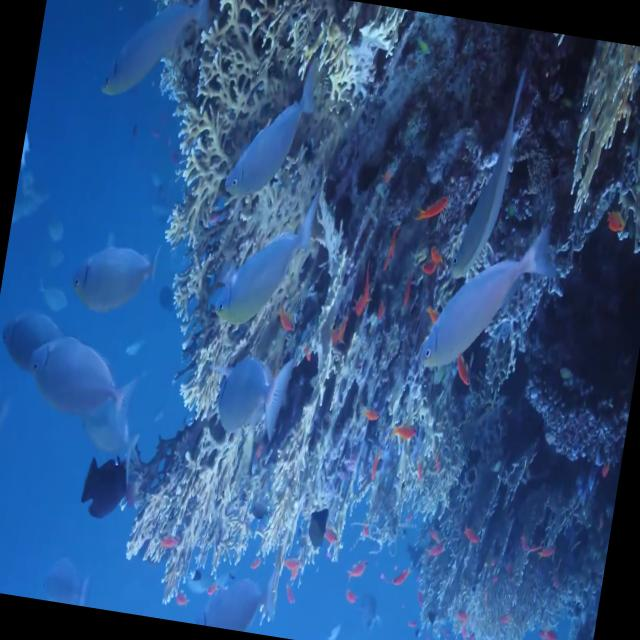fish: (400, 199, 558, 395), (430, 56, 554, 294), (216, 58, 336, 224), (202, 187, 326, 347), (19, 316, 156, 448), (91, 0, 222, 134), (202, 324, 302, 468), (57, 218, 163, 324), (186, 538, 290, 636), (64, 451, 138, 544), (0, 298, 63, 390), (32, 549, 94, 607), (408, 179, 454, 233), (596, 193, 636, 250), (298, 500, 334, 556), (448, 342, 482, 397), (353, 260, 380, 324), (384, 410, 428, 449), (337, 542, 373, 587), (354, 398, 390, 439), (452, 511, 484, 552), (388, 560, 416, 594), (318, 516, 342, 554), (427, 512, 451, 546), (532, 626, 558, 640)
